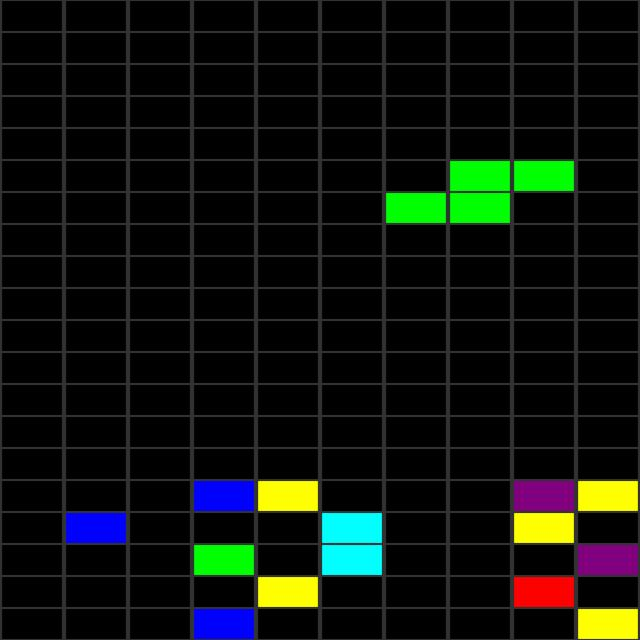Tetrimino_T: (386, 162, 582, 223)
